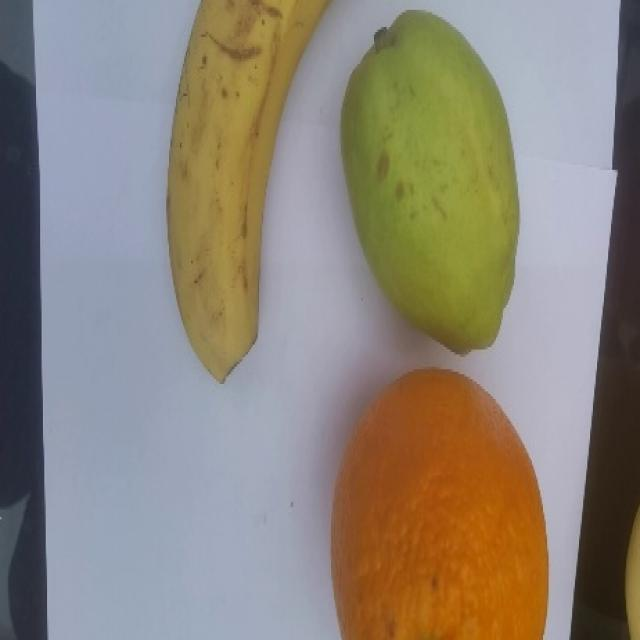Banana: (165, 0, 332, 383)
Orange: (329, 366, 549, 639)
